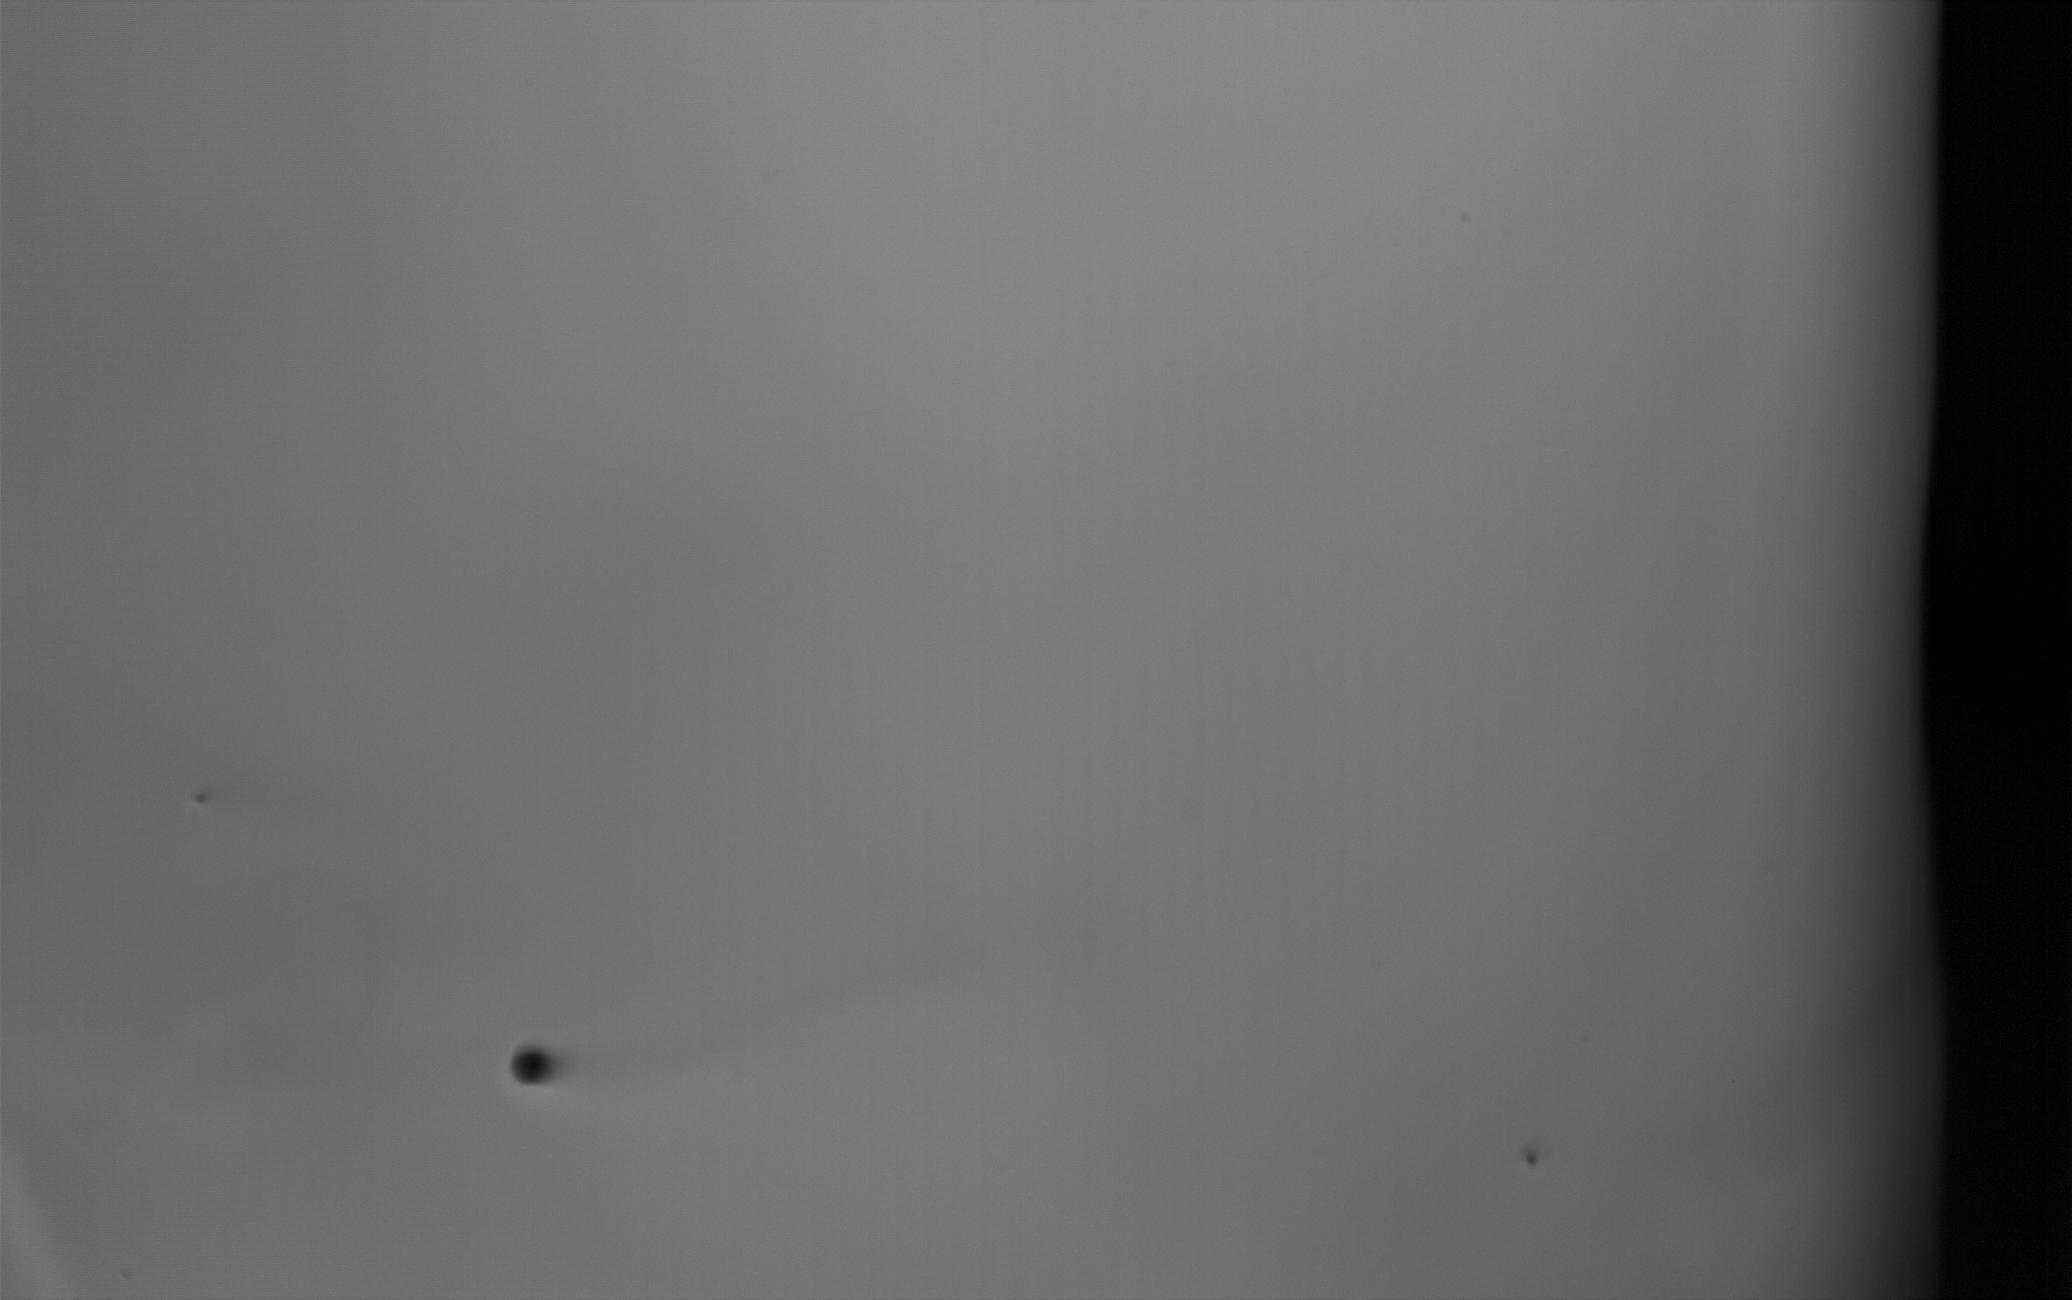ClassicalEvaporation: (511, 1042, 558, 1089), (1524, 1149, 1541, 1167), (192, 791, 208, 807)
